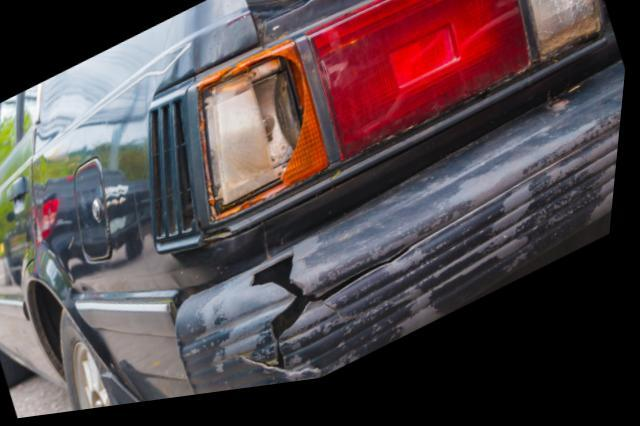crack: (241, 255, 420, 388)
lamp broken: (199, 45, 335, 230)
